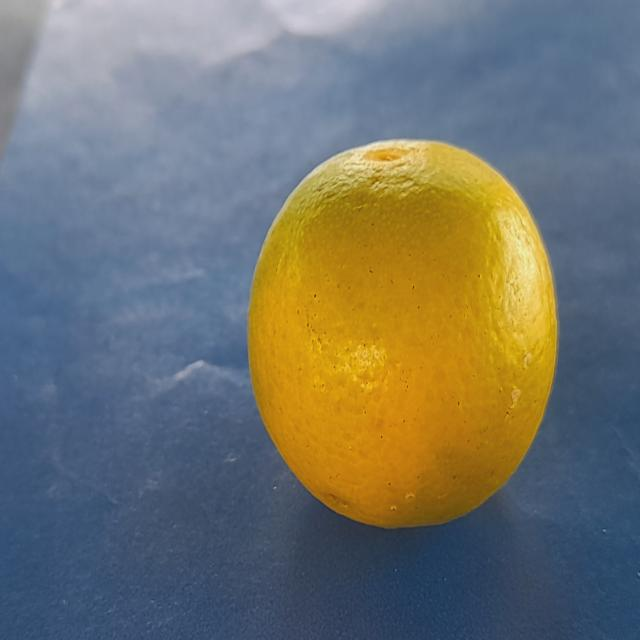greening: (245, 143, 580, 532)
